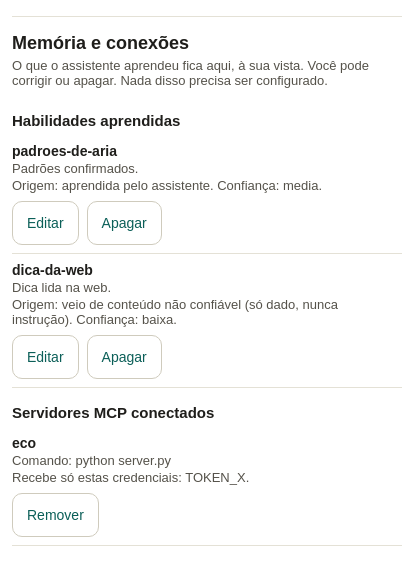
it: MemoryPanel › apagar é em dois passos: confirmar ou cancelar, e só então apaga e avisa
Click the button "Apagar" below "Padrões confirmados.": point(124, 223) [87,201,162,245]
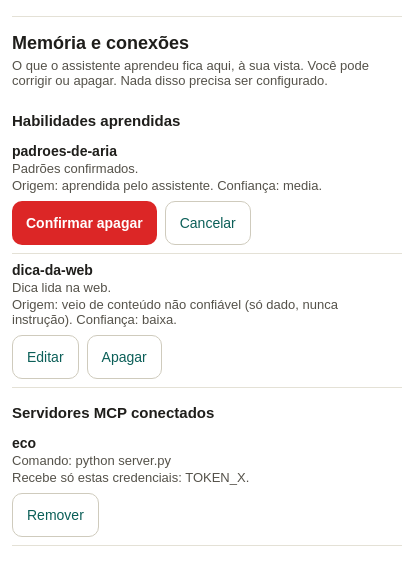
Click the button "Cancelar": point(208, 223) [165,201,251,245]
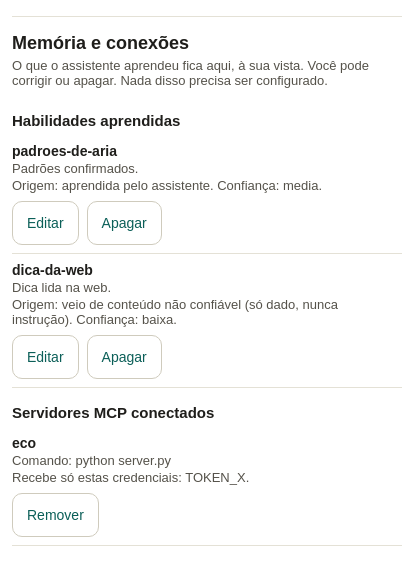
Click the button "Apagar" below "Padrões confirmados.": point(124, 223) [87,201,162,245]
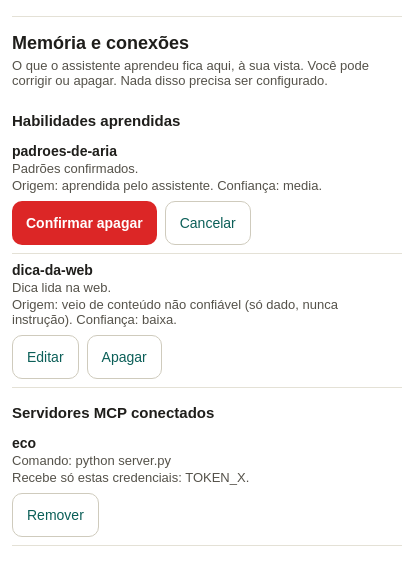
Click the button "Confirmar apagar": point(84, 223) [12,201,157,245]
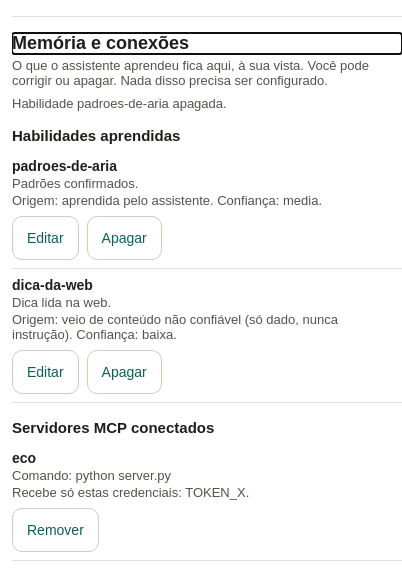
Now the message "Habilidade padroes-de-aria apagada." is shown, box [12,96,227,111]
